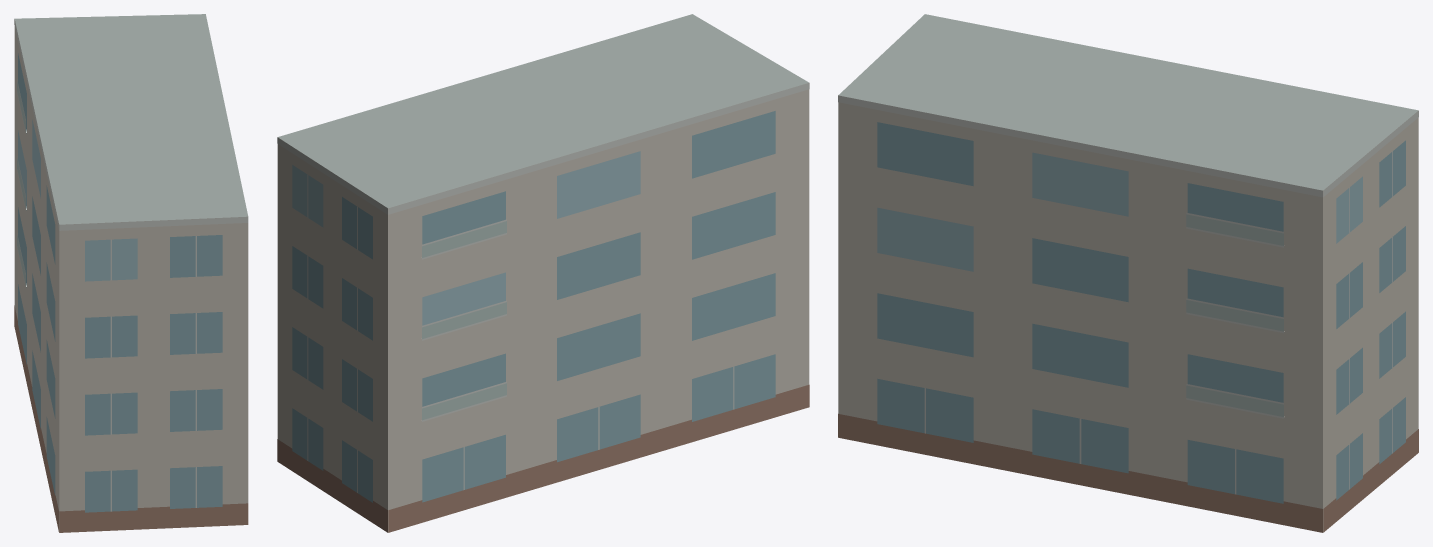
File: survey-upis-32722871.glb
3 renders of one model, left to right at view 1: azimuth 30°, elevation 25°; view 2: azimuth 150°, elevation 25°; view 3: azimuth 270°, elevation 25°, orthographic. The views are drawn at different scales.
Parts seen in each view (by area): view 1: survey-upis-32722871.tmp; view 2: survey-upis-32722871.tmp; view 3: survey-upis-32722871.tmp.
Boxes of the visible parts, box(x1,y1,x2,y2) form: survey-upis-32722871.tmp: box(14, 14, 248, 532); survey-upis-32722871.tmp: box(277, 14, 809, 532); survey-upis-32722871.tmp: box(838, 14, 1418, 532).
Bounding box in the file's own units: 13.51 × 12.2 × 18.77.
